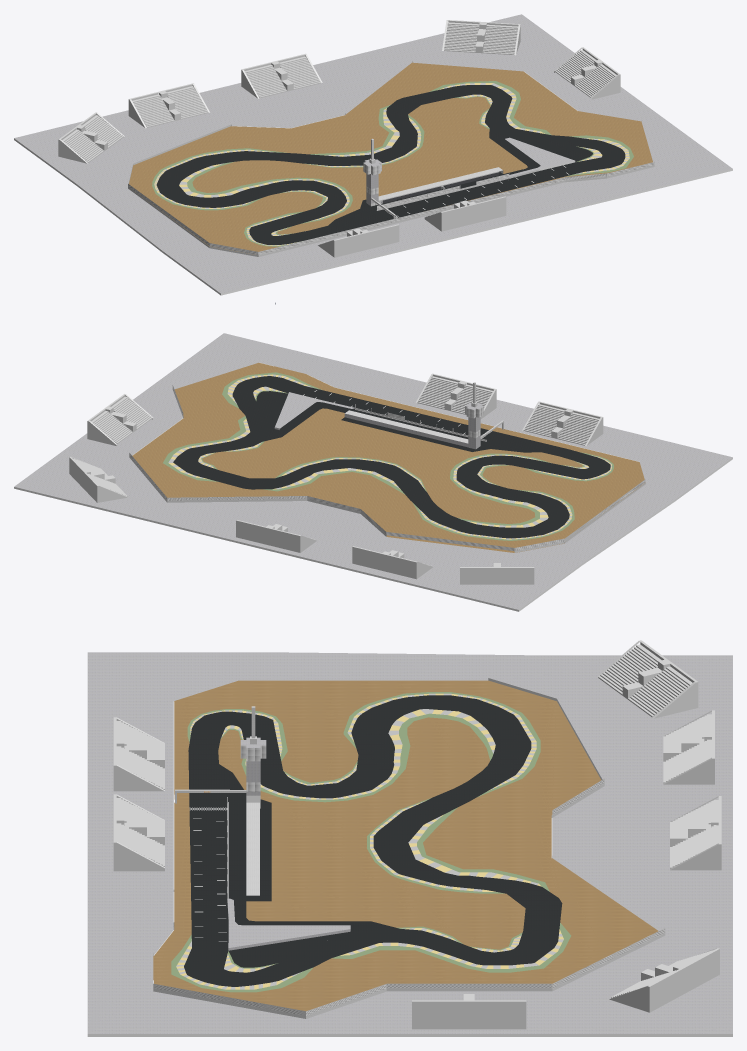
Rendered from stonebrook_race_circuit.glb.
3 renders of one model, top to bottom at view 1: azimuth 30°, elevation 25°; view 2: azimuth 150°, elevation 25°; view 3: azimuth 270°, elevation 25°, orthographic. The views are drawn at different scales.
Parts seen in each view (by area): view 1: Mesh287 Model, Mesh37 Group2 Group1 Model, Mesh75 Group41 Model, Mesh223 Group197 Model, Mesh112 Group80 Model, Mesh149 Group119 Model, Mesh260 Group236 Model, Mesh186 Group158 Model; view 2: Mesh287 Model, Mesh149 Group119 Model, Mesh260 Group236 Model, Mesh112 Group80 Model, Mesh186 Group158 Model, Mesh223 Group197 Model, Mesh75 Group41 Model, Mesh37 Group2 Group1 Model; view 3: Mesh287 Model, Mesh223 Group197 Model, Mesh186 Group158 Model, Mesh112 Group80 Model, Mesh75 Group41 Model, Mesh260 Group236 Model, Mesh149 Group119 Model, Mesh38 Group1 Model, Mesh37 Group2 Group1 Model.
Boxes of the visible parts, x1,y1,x2,y2 form: Mesh287 Model: [14, 14, 732, 295]; Mesh37 Group2 Group1 Model: [424, 196, 506, 231]; Mesh75 Group41 Model: [318, 224, 399, 257]; Mesh223 Group197 Model: [554, 47, 620, 99]; Mesh112 Group80 Model: [58, 112, 124, 163]; Mesh149 Group119 Model: [128, 83, 209, 128]; Mesh260 Group236 Model: [241, 53, 322, 98]; Mesh186 Group158 Model: [442, 20, 520, 55]; Mesh287 Model: [14, 333, 732, 611]; Mesh149 Group119 Model: [352, 546, 432, 579]; Mesh260 Group236 Model: [236, 520, 316, 552]; Mesh112 Group80 Model: [460, 563, 534, 584]; Mesh186 Group158 Model: [69, 456, 127, 502]; Mesh223 Group197 Model: [87, 394, 153, 445]; Mesh75 Group41 Model: [522, 401, 603, 445]; Mesh37 Group2 Group1 Model: [416, 373, 496, 419]; Mesh287 Model: [87, 652, 732, 1036]; Mesh223 Group197 Model: [412, 994, 526, 1029]; Mesh186 Group158 Model: [609, 948, 719, 1012]; Mesh112 Group80 Model: [597, 640, 698, 718]; Mesh75 Group41 Model: [113, 717, 164, 791]; Mesh260 Group236 Model: [670, 796, 721, 870]; Mesh149 Group119 Model: [663, 710, 714, 784]; Mesh38 Group1 Model: [113, 842, 164, 871]; Mesh37 Group2 Group1 Model: [113, 794, 164, 867].
Size of the model in its own units: 15806 by 1959 by 12581.
25 materials, 8 textured.
